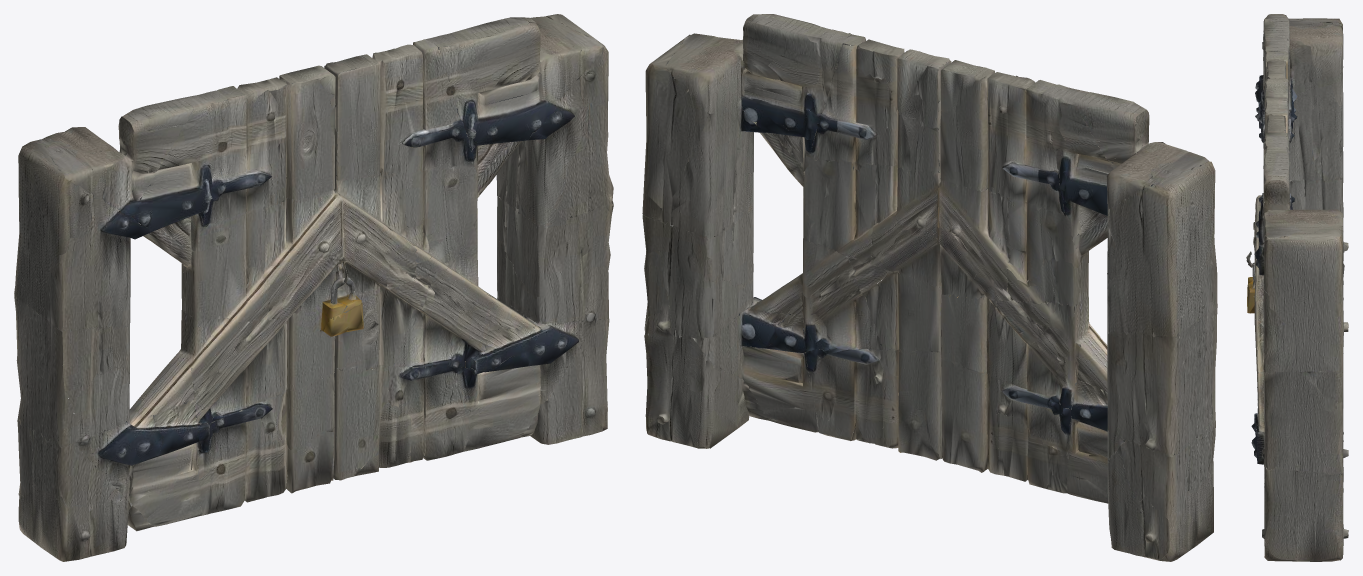
The model's file is fence-gate.glb.
The picture shows the model from 3 angles, left to right: view 1: azimuth 30°, elevation 25°; view 2: azimuth 150°, elevation 25°; view 3: azimuth 270°, elevation 25°; orthographic projection. The views are drawn at different scales.
Parts seen in each view (by area): view 1: Mesh_0; view 2: Mesh_0; view 3: Mesh_0.
Boxes of the visible parts, x1=… form: Mesh_0: x1=14, y1=14, x2=613, y2=561; Mesh_0: x1=642, y1=14, x2=1217, y2=561; Mesh_0: x1=1246, y1=14, x2=1348, y2=561.
Size of the model in its own units: 1.9 by 1.39 by 0.3636.
1 material, 1 textured.
